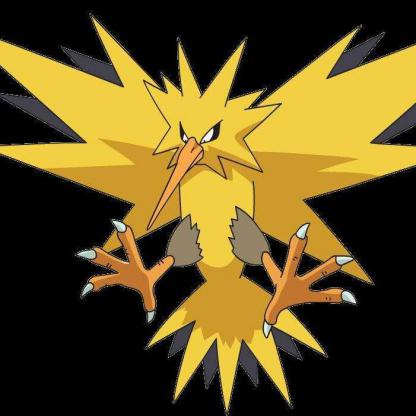Zapdos: (4, 17, 416, 392)
